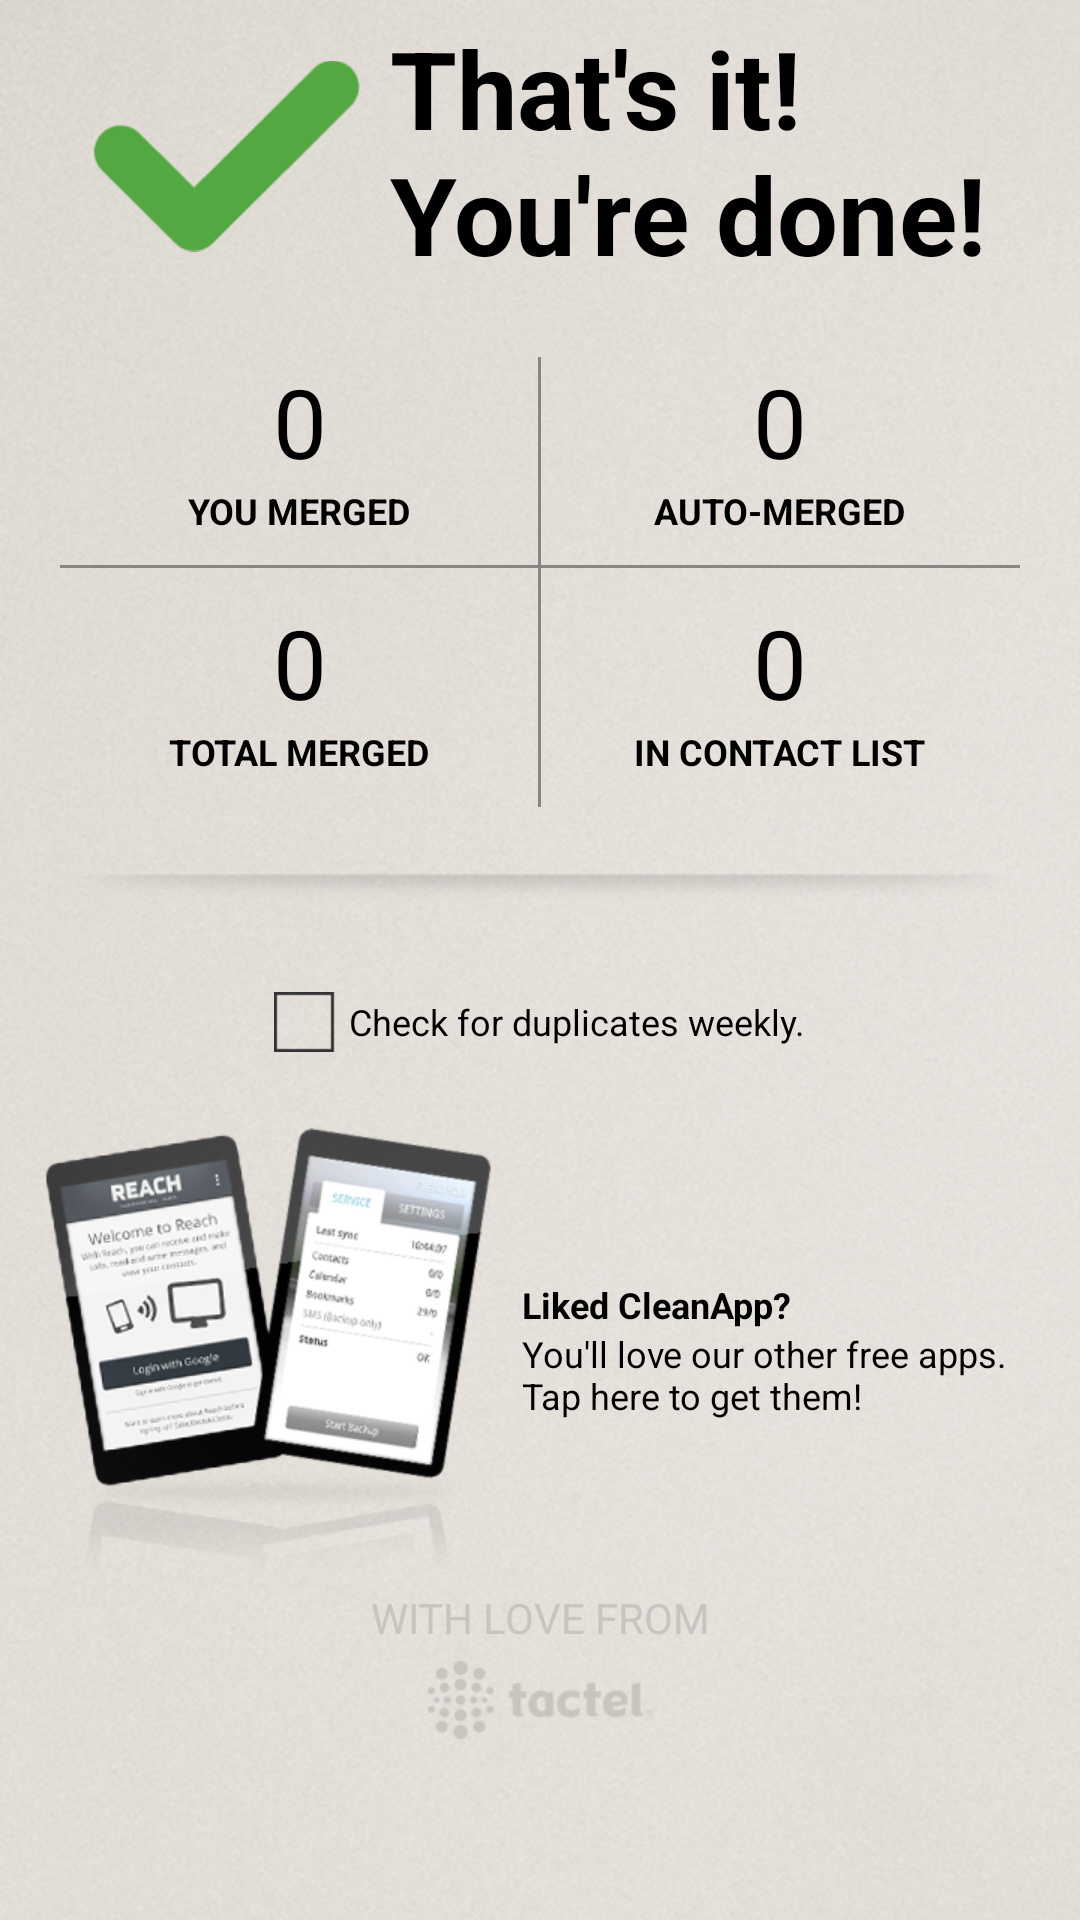

Icon bounding boxes for this 1080x1920 phone screenshot, format (x1, y1, x2, y2):
done checkmark: (94, 61, 360, 252)
